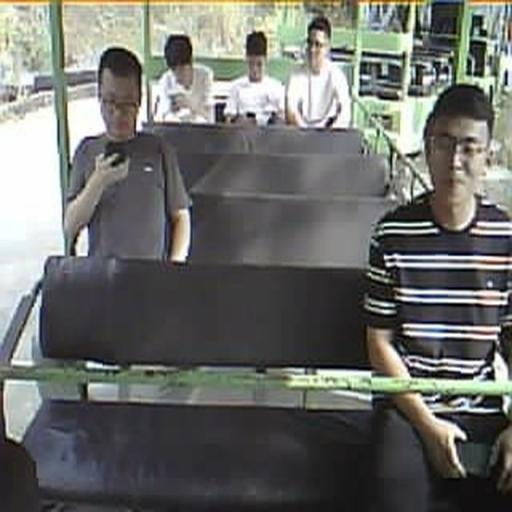persona: (359, 82, 511, 507), (63, 46, 192, 265), (285, 15, 352, 130), (225, 30, 286, 125), (152, 33, 215, 123)
